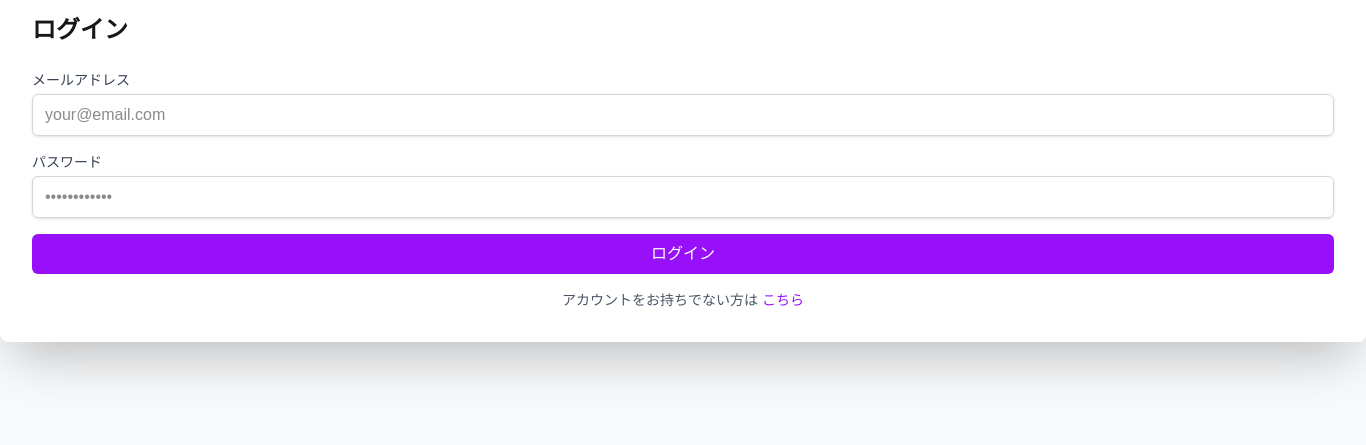
Test case: LoginForm › バリデーションエラー › メールアドレスが空の場合エラーが表示される
Step 1. Click the button "ログイン" → (683, 254), box [32,234,1334,274]
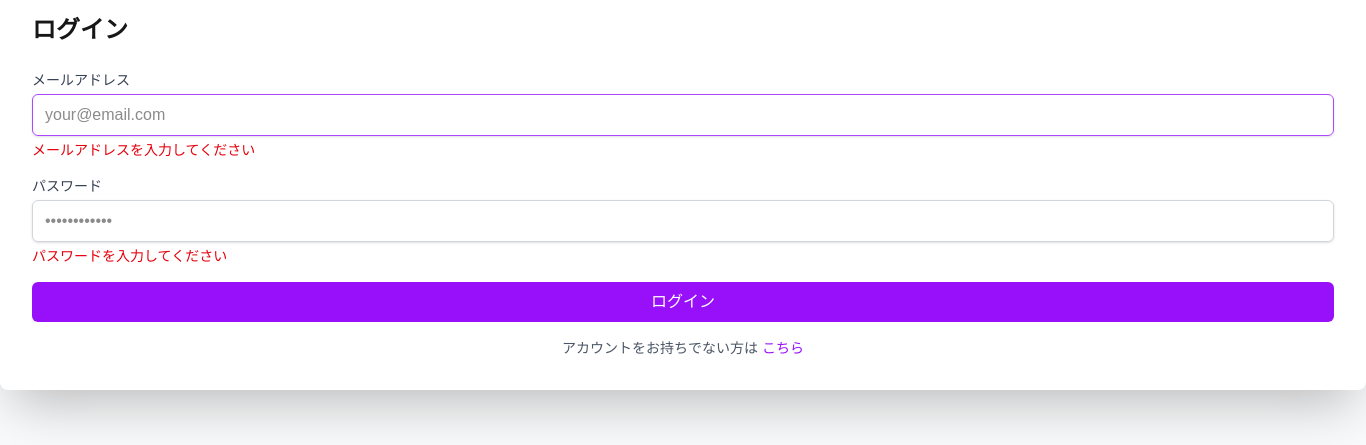
Result: the text "メールアドレスを入力してください" is shown at [32,142,255,158]
